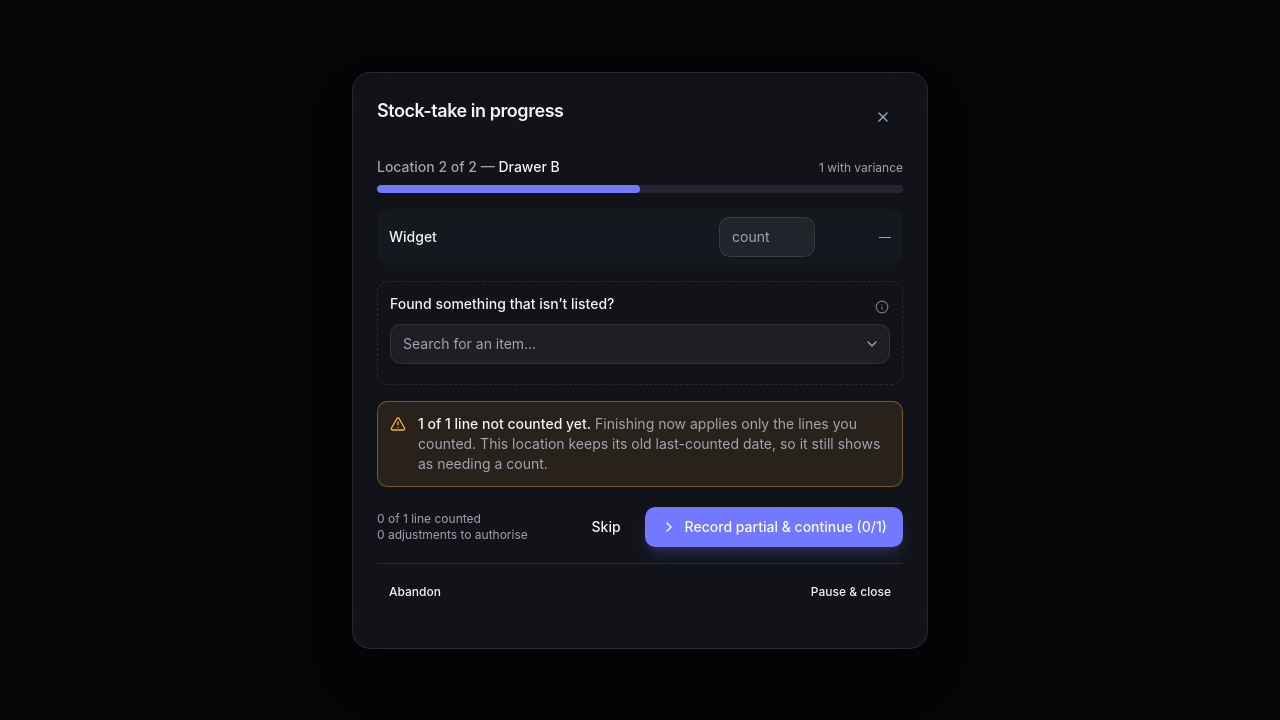
Test: AuditDayDialog — resume › resumes a persisted half-done session on the first pending location
Expected: the element with test id "audit-step-heading" shows "Drawer B", [498, 158, 560, 174]
Expected: the element with test id "audit-step-heading" shows "Location 2 of 2", [377, 156, 560, 176]
Step 1. Type "10" into the number field with placeholder "count" → (767, 236), box [719, 216, 815, 256]
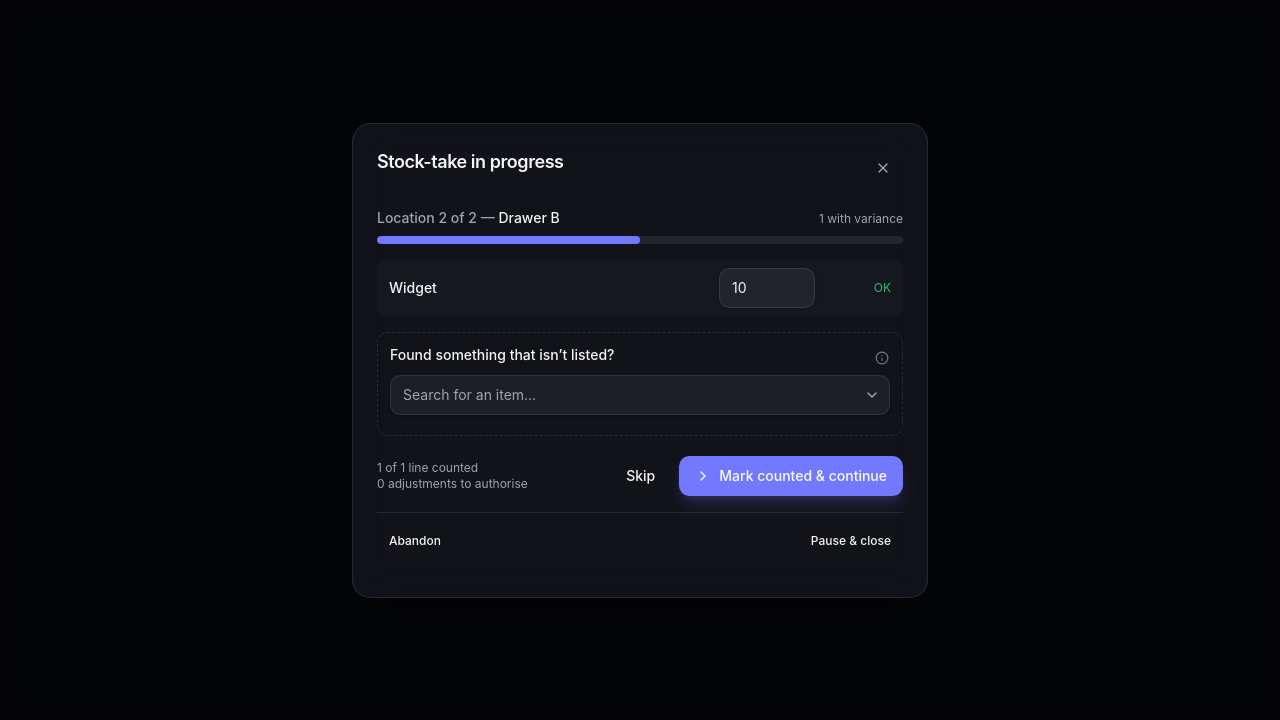
Step 2. Click the button with test id "audit-continue" → (791, 476), box [679, 456, 903, 496]
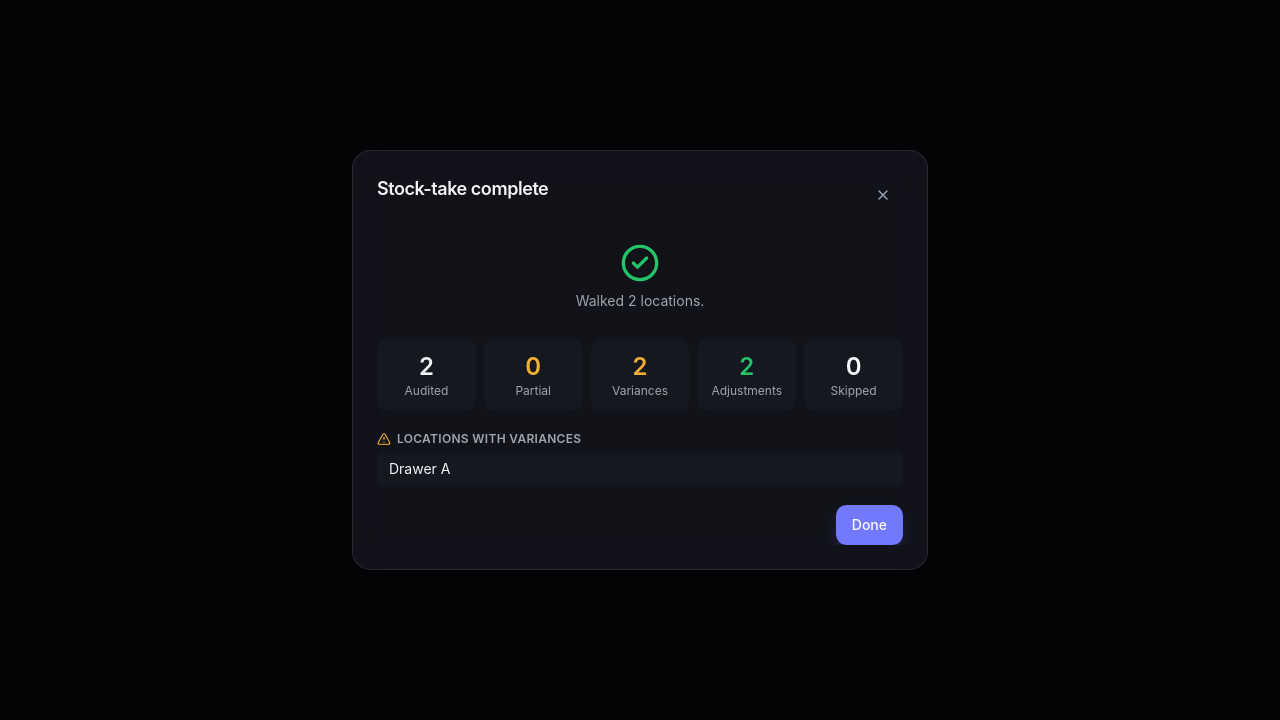
Result: the element with test id "audit-summary" is shown at [377, 235, 903, 545]
Result: the text with test id "audit-stat-audited" reads "2" at [419, 352, 434, 381]
Result: the text with test id "audit-stat-variances" reads "2" at [632, 352, 648, 381]
